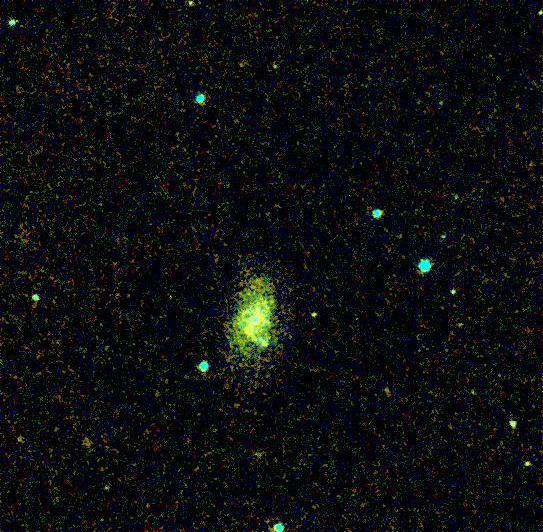star: (250, 328, 280, 358)
